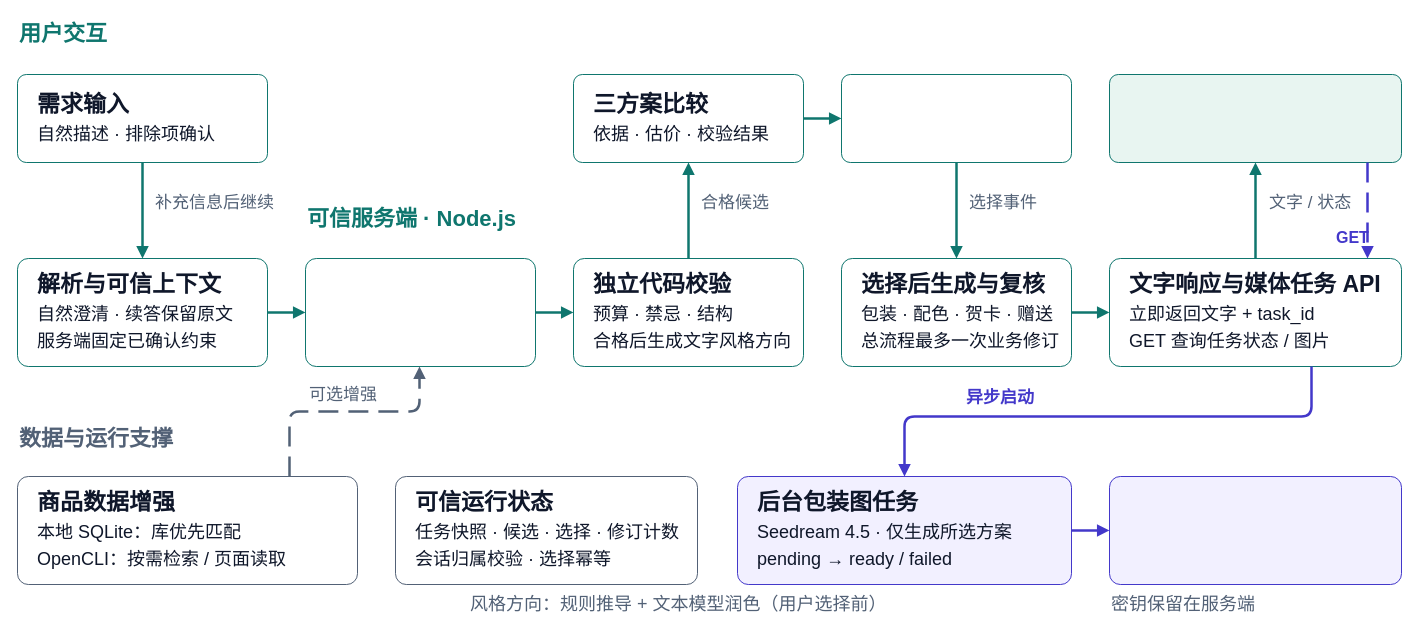
Image size: 1419x636. Some labels were removed from this diagram. Here are the shapes that lost their labels. From the top down, the centre of each, then its label:
At [956,118]: "用户明确选择 只选通过检查的方案".
At [1255,118]: "赠送指南与包装图 文字先展示 · 图片原位补齐".
At [420,312]: "候选生成 直连文本模型 · 三方案 本地商品数据增强".
At [1255,530]: "任务与产物落盘 媒体任务 JSON · 图片文件 模型调用记录".
